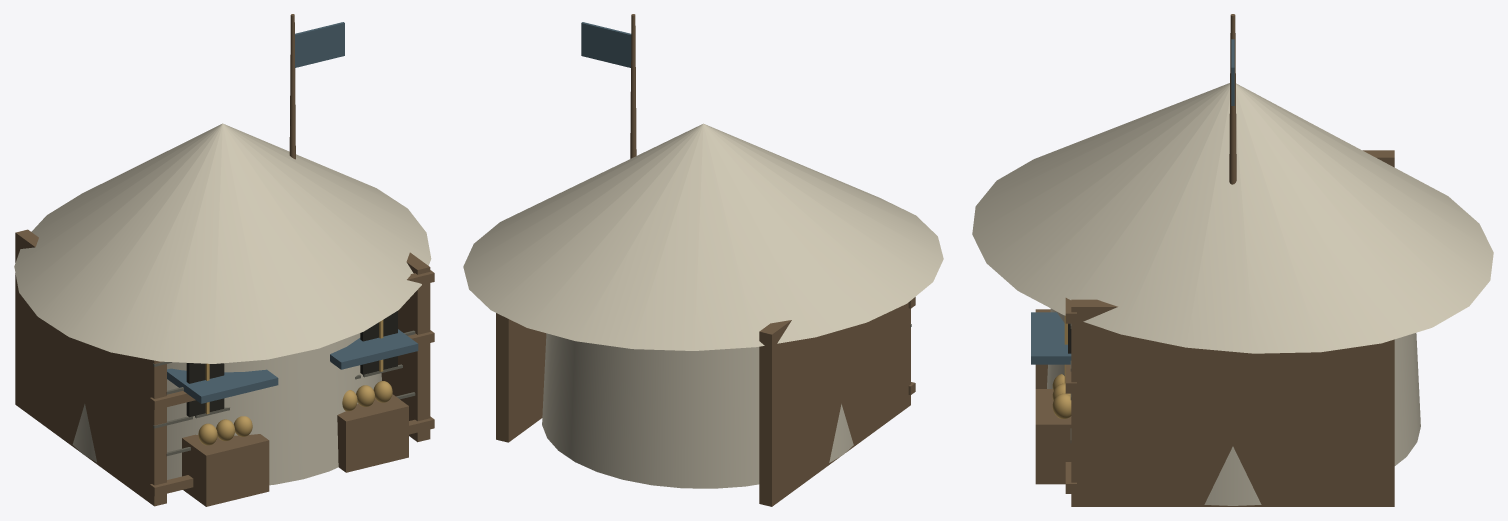
The model's file is b-market-steppe.glb.
3 views of the same model, side by side, from view 1: azimuth 30°, elevation 25°; view 2: azimuth 150°, elevation 25°; view 3: azimuth 270°, elevation 25° (orthographic). The views are drawn at different scales.
Visible parts, largest first — view 1: Structure; view 2: Structure; view 3: Structure.
Part boxes in pixels (<box>): Structure: <box>14,14,434,506</box>; Structure: <box>463,14,943,506</box>; Structure: <box>972,14,1493,506</box>.
Size of the model in its own units: 5.55 by 5.33 by 5.55.
